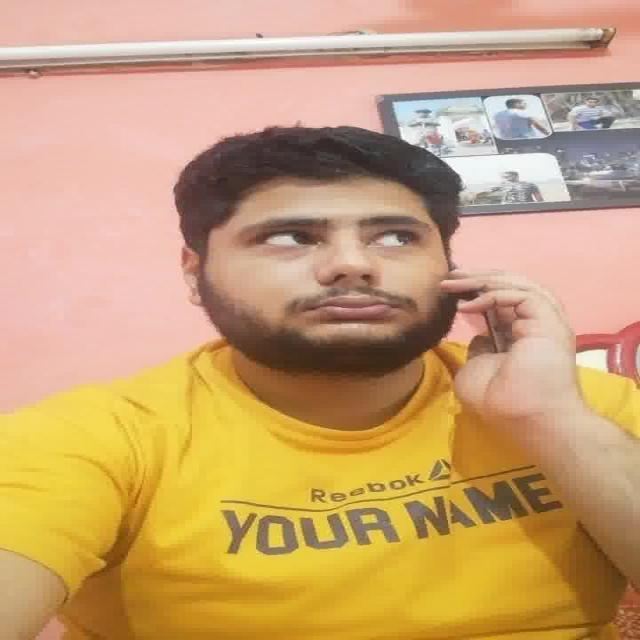Phone: (457, 285, 508, 355)
